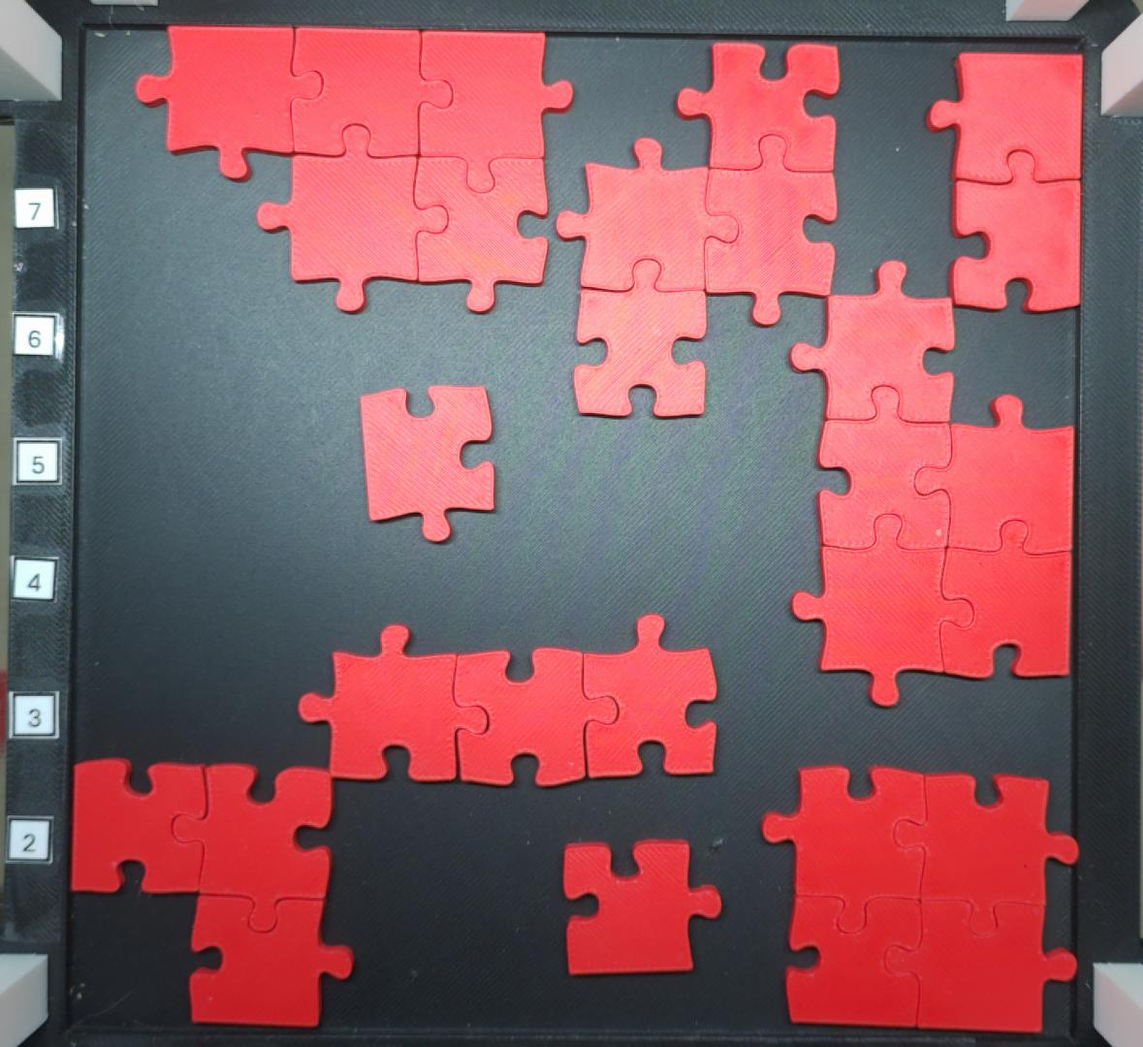p_1: (559, 839, 723, 978), (360, 384, 500, 544)
p_2: (932, 50, 1087, 315)
p_3: (70, 758, 355, 1028), (297, 612, 721, 790)
p_4: (558, 34, 841, 421), (763, 768, 1080, 1032)
p_m: (134, 23, 575, 314), (793, 258, 1074, 707)
